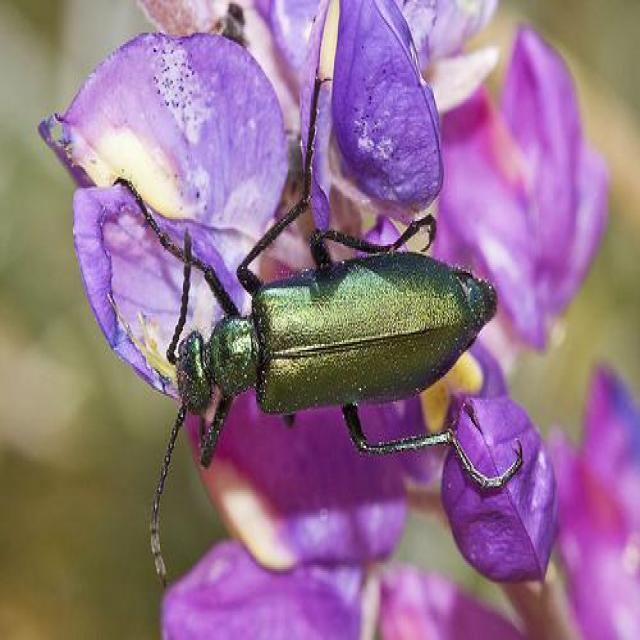BlisterBeetle-Adult-: (123, 94, 529, 497)
